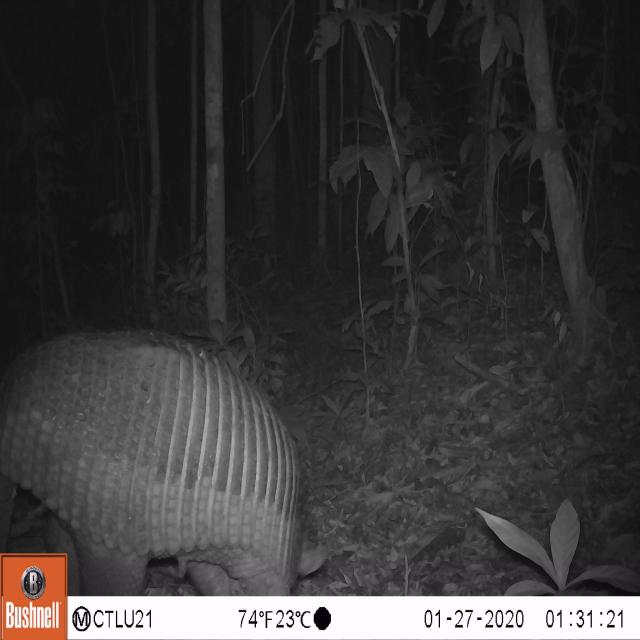Armadillo: (0, 310, 333, 593)
